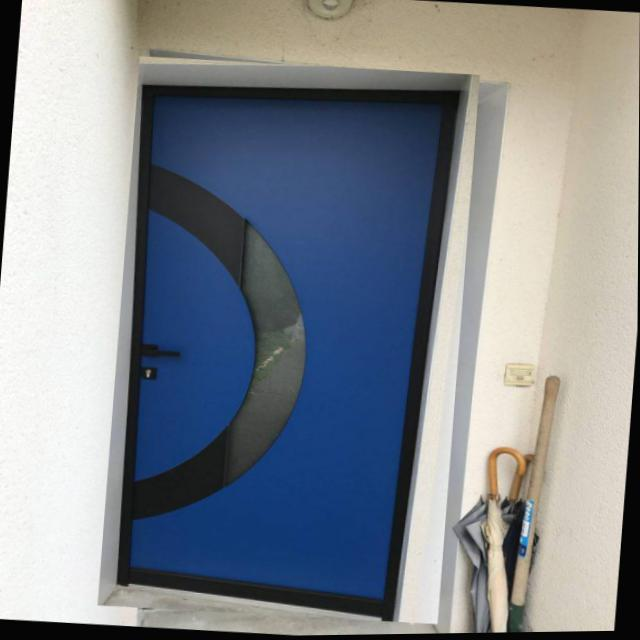close: (97, 52, 481, 630)
